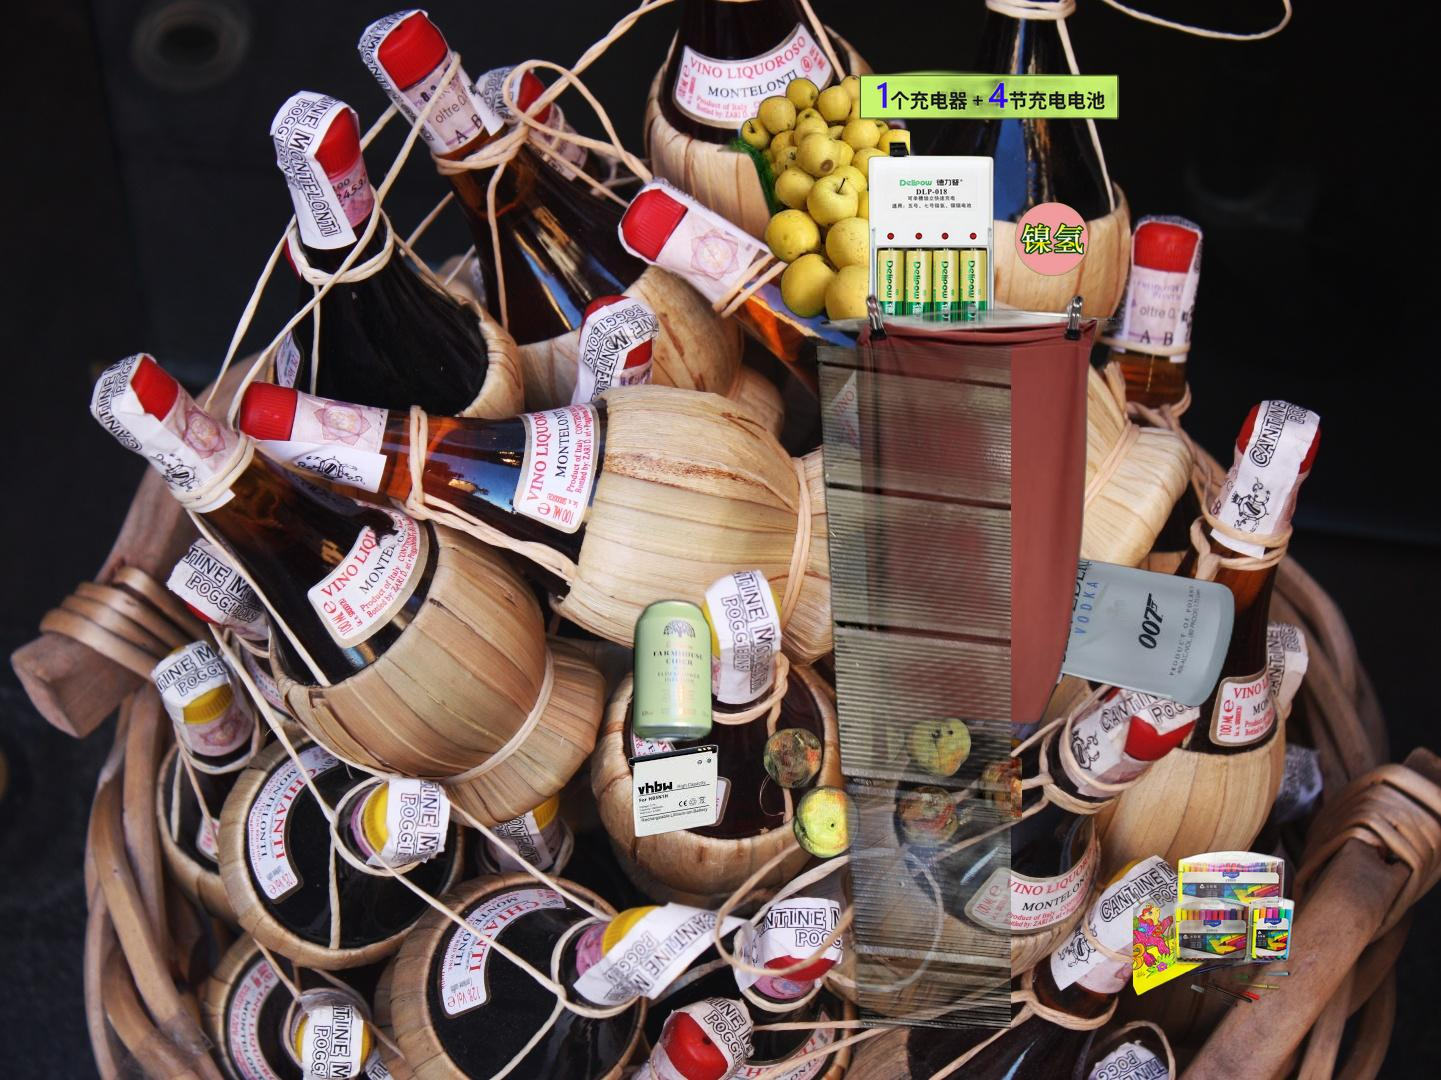battery: (856, 67, 1122, 377), (625, 742, 720, 839)
biological: (716, 71, 910, 323), (753, 700, 1022, 878)
clothes: (797, 285, 1124, 781)
glass: (831, 518, 1239, 710)
metal-cans: (627, 346, 1011, 1029)
penholder: (1134, 842, 1303, 1012)
